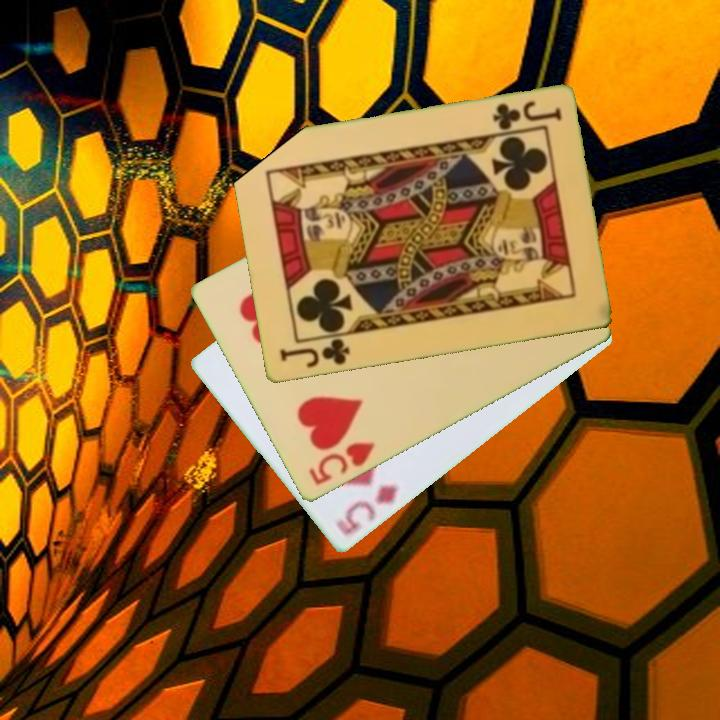5d: (331, 482, 401, 539)
5h: (305, 439, 378, 489)
Jc: (275, 335, 352, 371), (489, 98, 564, 133)
